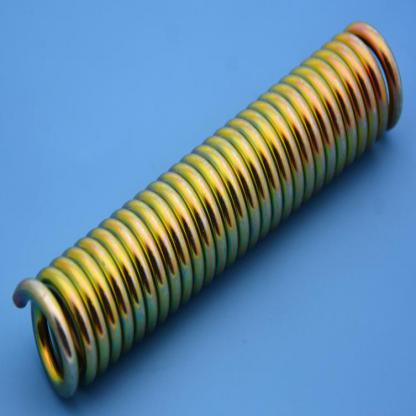FOD: (8, 19, 402, 407)
